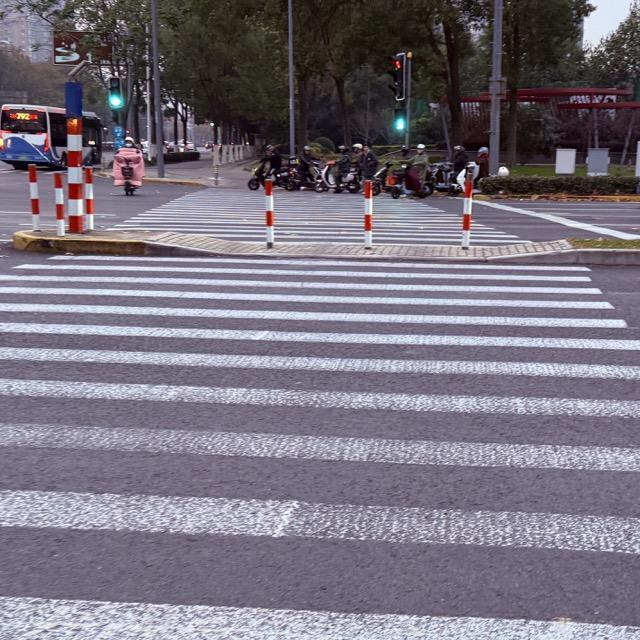curb: (12, 231, 222, 256), (501, 249, 639, 265), (481, 194, 639, 202), (145, 177, 208, 186), (96, 171, 110, 177)
